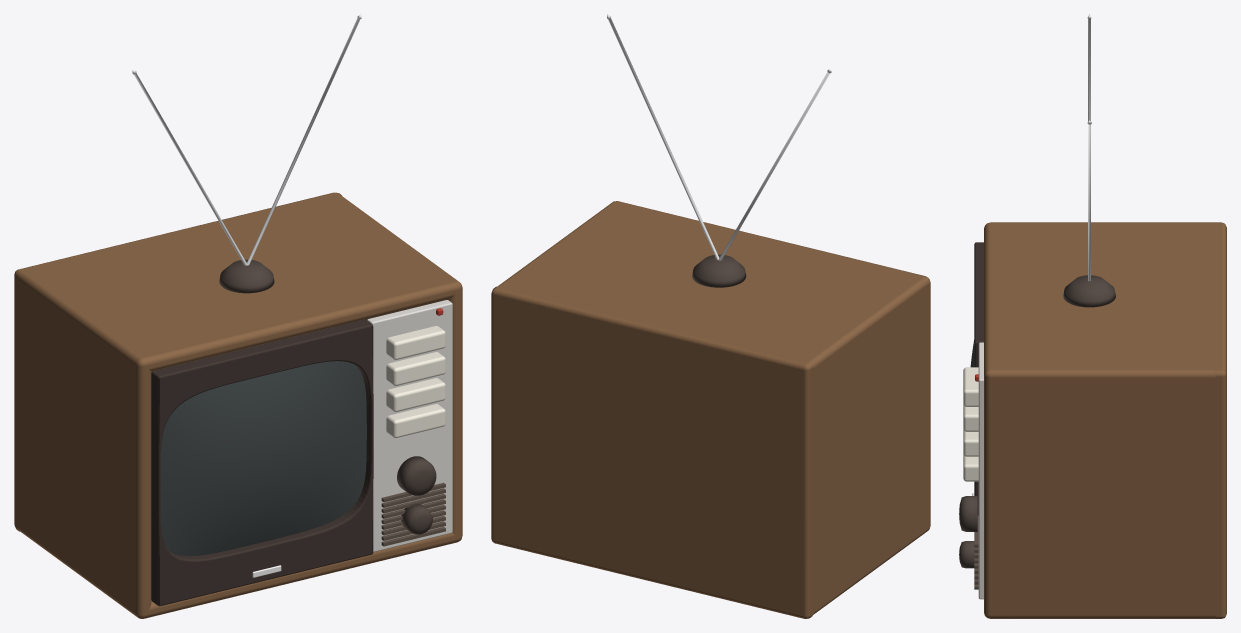
The model's file is crt_tv.glb.
The picture shows the model from 3 angles, left to right: view 1: azimuth 30°, elevation 25°; view 2: azimuth 150°, elevation 25°; view 3: azimuth 270°, elevation 25°; orthographic projection. The views are drawn at different scales.
Visible parts, largest first — view 1: TV_cabinet, TV_screen, TV_mask, TV_panel, TV_grille, TV_ant_base, TV_btn1, TV_btn2, TV_btn3, TV_btn0, TV_knob0, TV_ant_rod-1 (+2 smaller); view 2: TV_cabinet, TV_ant_base, TV_ant_rod-1, TV_ant_rod1; view 3: TV_cabinet, TV_panel, TV_ant_base, TV_mask, TV_knob0, TV_btn0, TV_ant_rod-1, TV_knob1, TV_btn3, TV_btn1, TV_btn2.
Part boxes in pixels (x1,y1,x2,y2): TV_cabinet: [14, 192, 462, 618]; TV_screen: [160, 361, 366, 556]; TV_mask: [151, 319, 373, 606]; TV_panel: [367, 300, 452, 552]; TV_grille: [381, 482, 445, 546]; TV_ant_base: [219, 259, 274, 293]; TV_btn1: [386, 352, 445, 385]; TV_btn2: [386, 378, 445, 411]; TV_btn3: [386, 404, 445, 438]; TV_btn0: [386, 326, 445, 359]; TV_knob0: [397, 456, 436, 495]; TV_ant_rod-1: [247, 14, 361, 265]; TV_cabinet: [491, 201, 930, 618]; TV_ant_base: [692, 254, 746, 287]; TV_ant_rod-1: [607, 14, 719, 260]; TV_ant_rod1: [718, 69, 831, 260]; TV_cabinet: [984, 222, 1226, 618]; TV_panel: [978, 342, 983, 599]; TV_ant_base: [1063, 275, 1115, 307]; TV_mask: [974, 242, 983, 515]; TV_knob0: [959, 496, 977, 531]; TV_btn0: [963, 367, 978, 406]; TV_ant_rod-1: [1087, 120, 1091, 281]; TV_knob1: [959, 541, 974, 568]; TV_btn3: [963, 454, 978, 481]; TV_btn1: [963, 404, 978, 431]; TV_btn2: [963, 429, 978, 456].
Bounding box in the file's own units: 0.68 × 0.9985 × 0.507.
